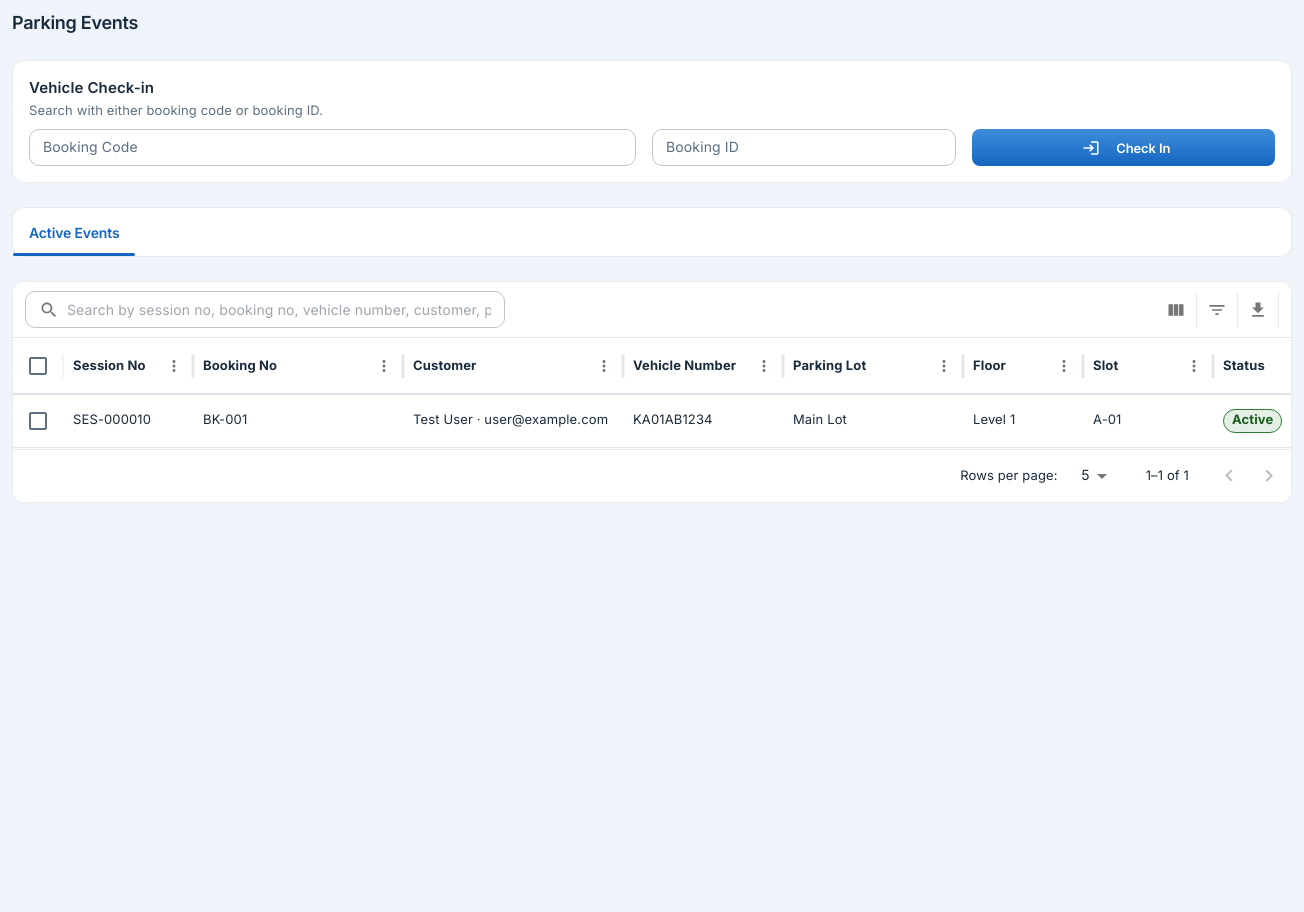
ParkingEventsPage › submits check-in form with booking code
The image size is (1304, 912).
Expected: the text "BK-001" is shown, x1=203 y1=412 x2=247 y2=428
Step 1. Type "BK-001" into the field labelled "Booking Code" → [332, 148], box x1=29 y1=129 x2=636 y2=166
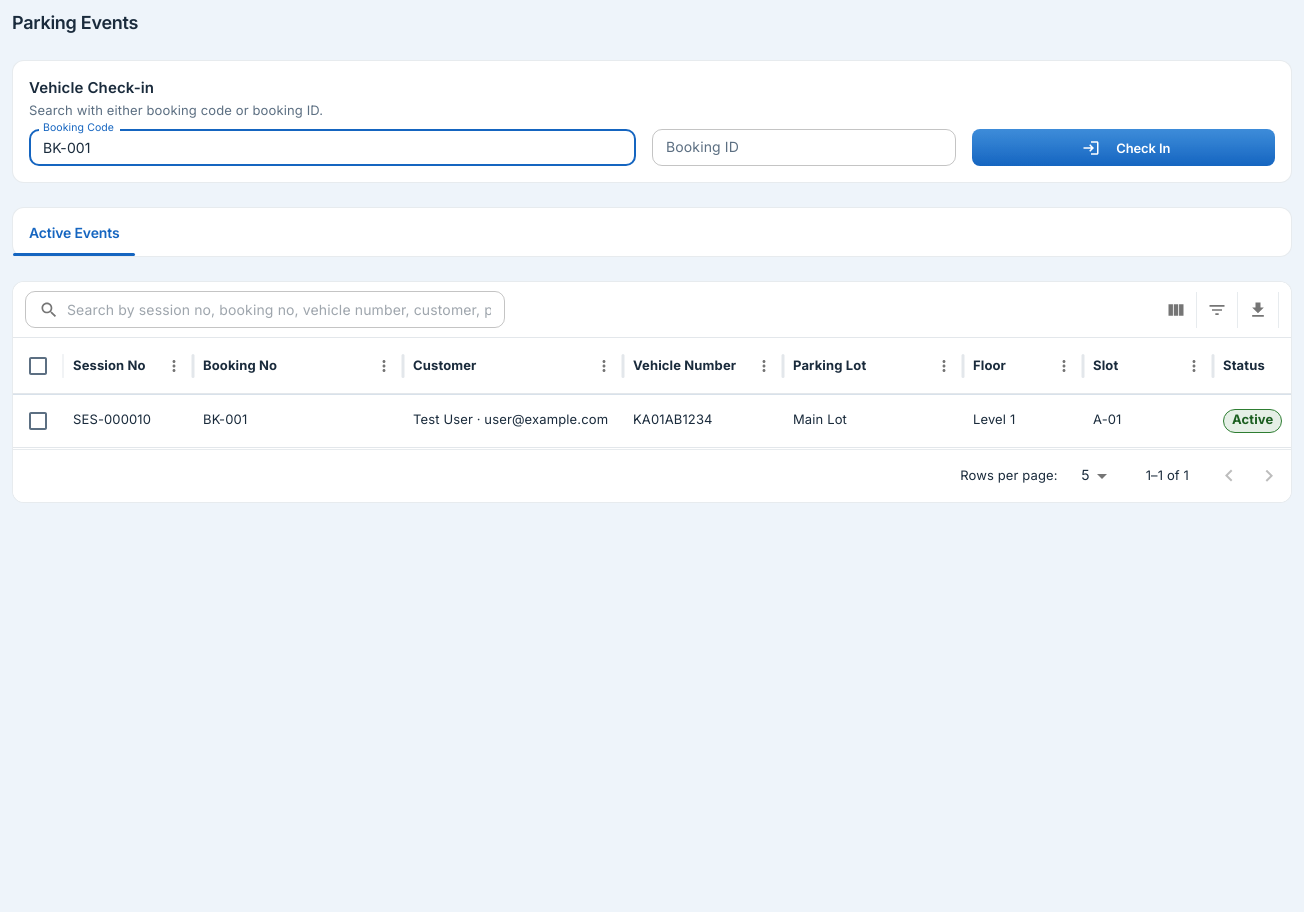
Step 2. Click the button "Check In" → [1123, 148], box x1=972 y1=129 x2=1275 y2=166
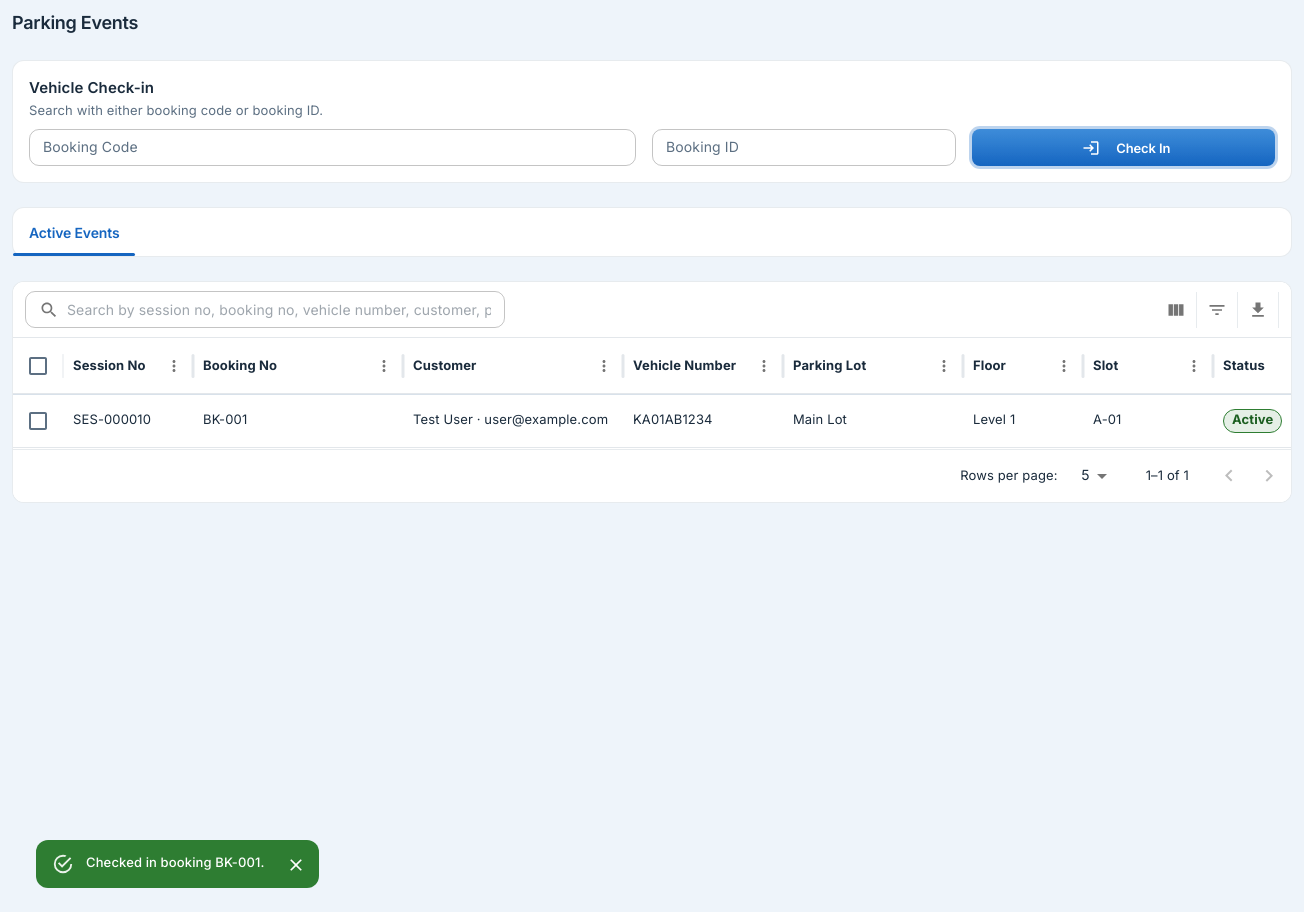
Now the text "Checked in booking BK-001." is shown, box x1=86 y1=855 x2=264 y2=871
